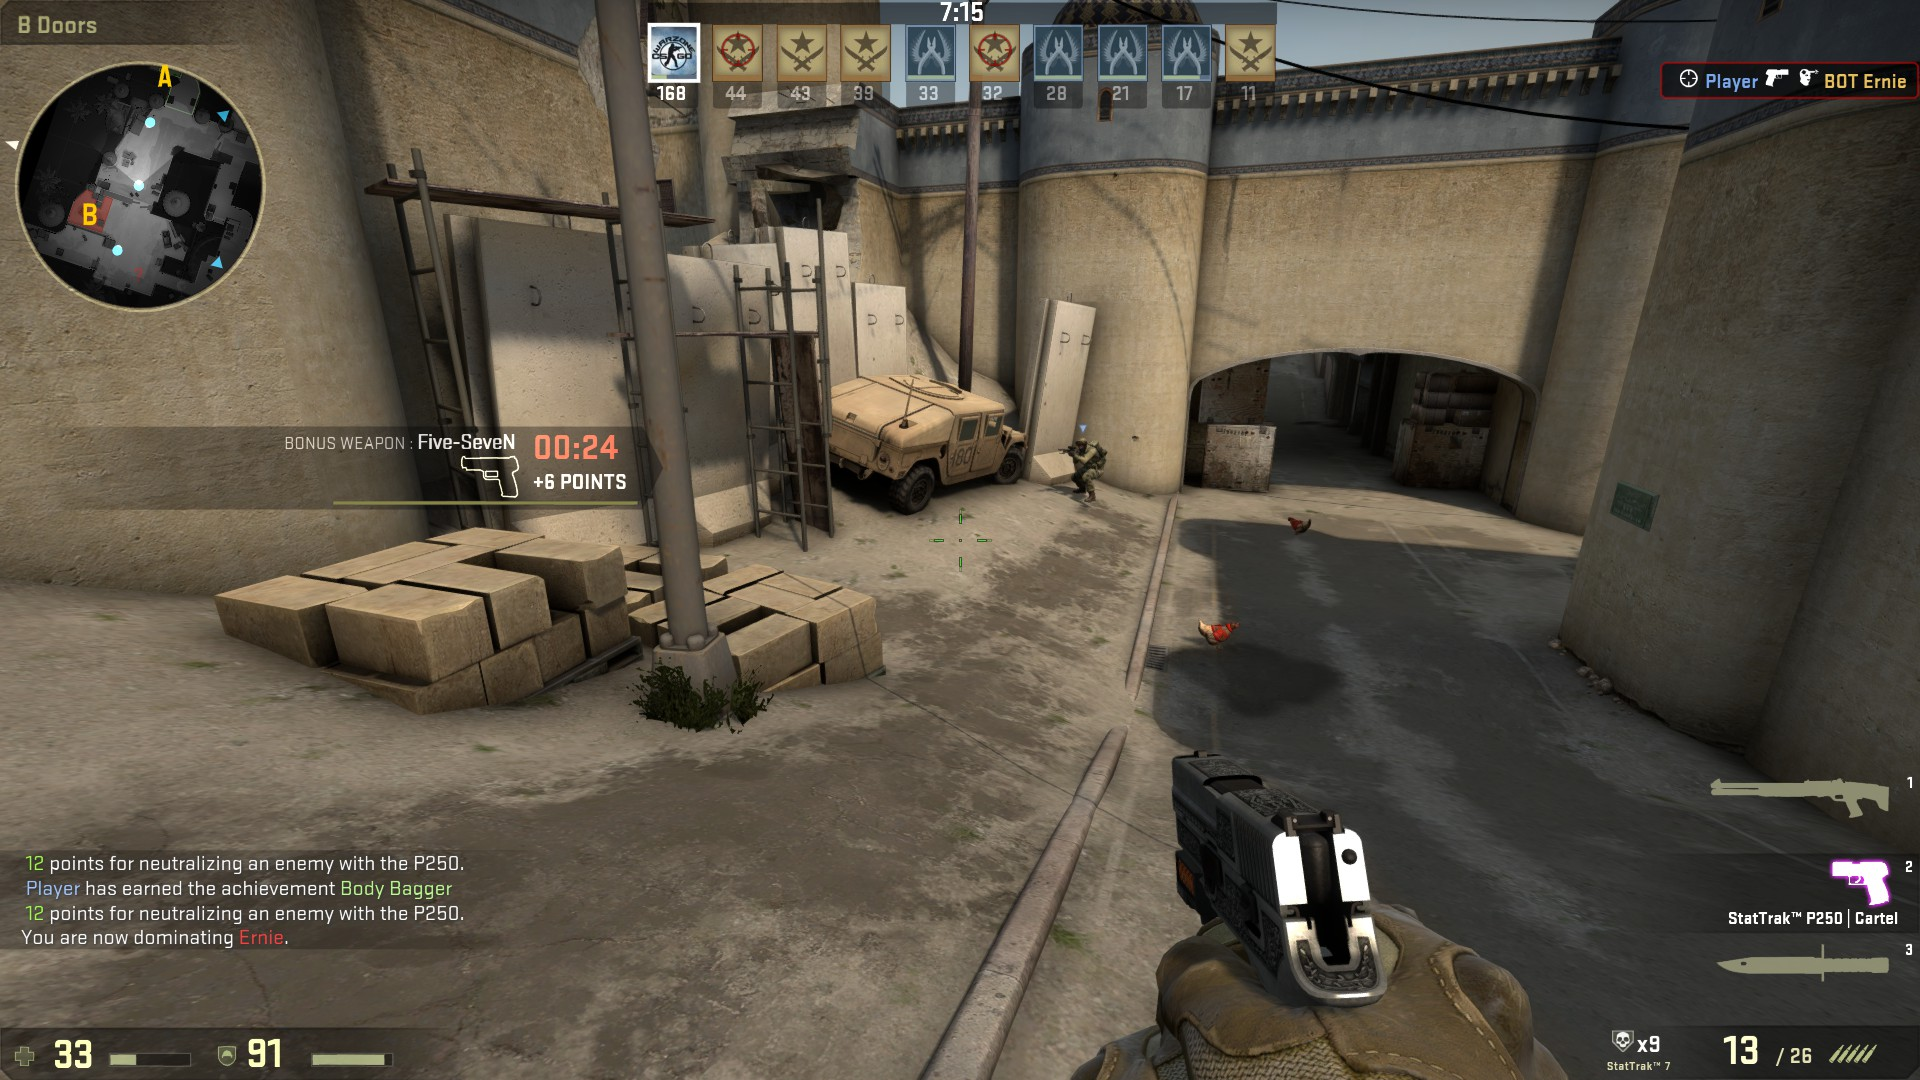c: (1069, 436, 1105, 504)
ch: (1075, 436, 1092, 454)
